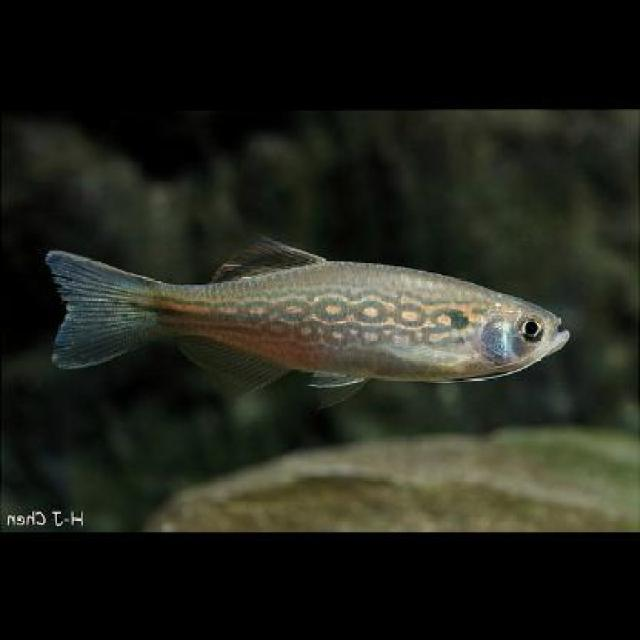ZebraFish: (48, 228, 570, 400)
